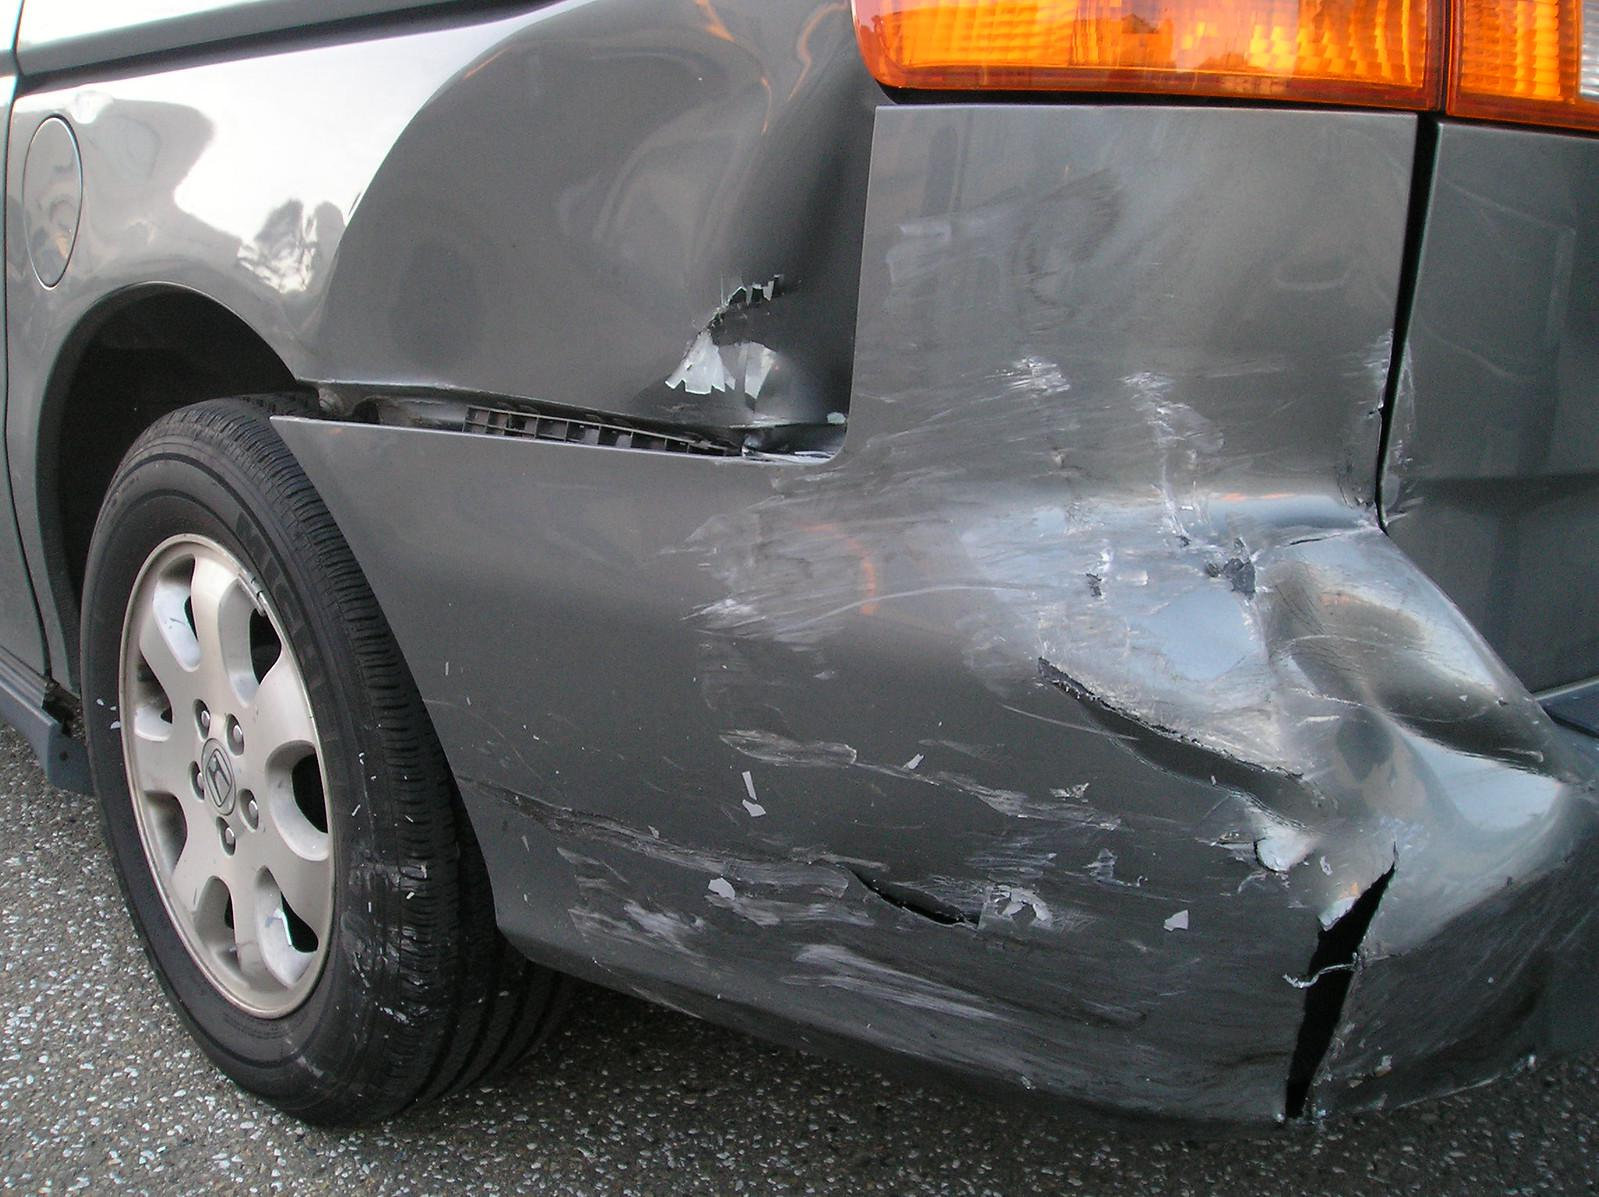quaterpanel-dent: (282, 137, 1552, 1096)
